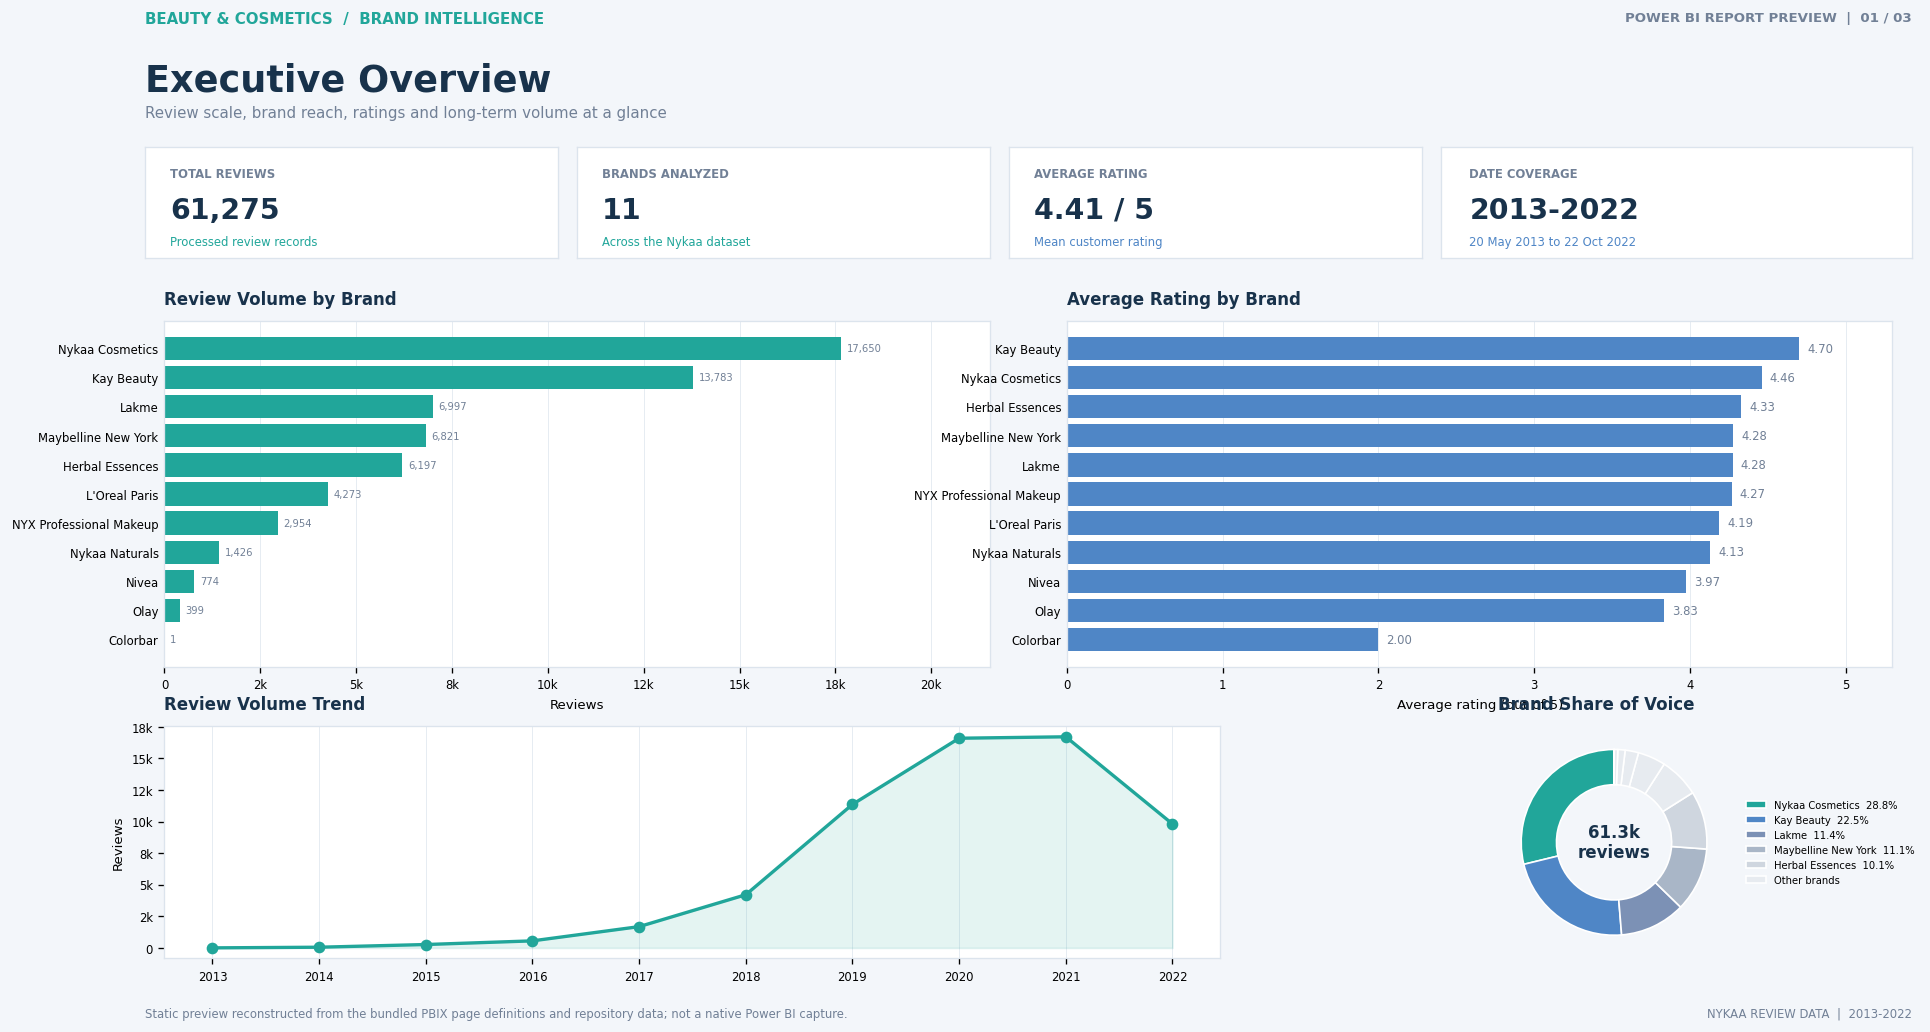

Layout of this report page (visuals, bound fields, positions):
{"tool":"powerbi","page":{"name":"Execitive Overview","canvas":[1280,720],"ordinal":0},"visuals":[{"type":"shape","box":[16,512,608,192],"z":0},{"type":"shape","box":[528,224,480,288],"z":1000},{"type":"shape","box":[16,224,512,288],"z":2000},{"type":"cardVisual","fields":{"Data":["Measures (2).Total Reviews"]},"box":[16,112,160,112],"z":3000},{"type":"cardVisual","title":"Brands Analyzed","fields":{"Data":["Measures (2).Total Brands"]},"box":[368,112,160,112],"z":4000},{"type":"clusteredBarChart","title":"Review Volume by Brand","fields":{"Category":["dim_brand.brand_name"],"Y":["Measures (2).Total Reviews"]},"box":[32,240,480,256],"z":5000},{"type":"lineChart","title":"Review Volume Trend (2013–2022)","fields":{"Category":["dim_date.full_date.Variation.Date Hierarchy.Year","dim_date.full_date.Variation.Date Hierarchy.Quarter","dim_date.full_date.Variation.Date Hierarchy.Month","dim_date.full_date.Variation.Date Hierarchy.Day"],"Y":["Measures (2).Reviews Analyzed"]},"box":[48,528,544,160],"z":6000},{"type":"clusteredBarChart","title":"Average Rating by Brand","fields":{"Category":["dim_brand.brand_name"],"Y":["Measures (2).Average Rating"]},"box":[544,240,448,256],"z":7000},{"type":"cardVisual","fields":{"Data":["Measures (2).Average Rating"]},"box":[192,112,160,112],"z":8000},{"type":"shape","box":[144,0,896,112],"z":9000},{"type":"textbox","box":[176,16,816,80],"z":10000},{"type":"shape","box":[1040,112,240,112],"z":11000},{"type":"shape","box":[1008,336,272,368],"z":12000},{"type":"shape","box":[1040,224,240,112],"z":13000},{"type":"slicer","fields":{"Values":["dim_brand.brand_name"]},"box":[1056,160,192,48],"z":14000},{"type":"slicer","fields":{"Values":["dim_date.year"]},"box":[1056,272,192,48],"z":15000},{"type":"textbox","box":[1024,384,240,304],"z":16000},{"type":"shape","box":[528,112,336,112],"z":17000},{"type":"gauge","fields":{"Y":["Measures (2).Net Sentiment"]},"box":[544,128,304,80],"z":18000},{"type":"shape","box":[624,512,384,192],"z":19000},{"type":"donutChart","title":"Brand Share of Voice","fields":{"Category":["dim_brand.brand_name"],"Y":["Measures (2).Share of Voice %"]},"box":[640,528,352,144],"z":20000},{"type":"image","box":[0,0,160,112],"z":21000},{"type":"shape","box":[1040,0,224,112],"z":22000},{"type":"slicer","fields":{"Values":["fact_customer_feedback.Sentiment Category"]},"box":[1056,48,192,48],"z":23000},{"type":"shape","box":[864,112,160,112],"z":24000}]}

Visuals, with their boxes on the page's 1280x720 design canvas (x1, y1, x2, y2). These are canvas units, not pixel positions in the 1930x1032 screenshot, which may show the page scaled, cropped or inside an application window:
shape: <bbox>16, 512, 624, 704</bbox>
shape: <bbox>528, 224, 1008, 512</bbox>
shape: <bbox>16, 224, 528, 512</bbox>
cardVisual - Measures (2).Total Reviews: <bbox>16, 112, 176, 224</bbox>
"Brands Analyzed" cardVisual: <bbox>368, 112, 528, 224</bbox>
"Review Volume by Brand" clusteredBarChart: <bbox>32, 240, 512, 496</bbox>
"Review Volume Trend (2013–2022)" lineChart: <bbox>48, 528, 592, 688</bbox>
"Average Rating by Brand" clusteredBarChart: <bbox>544, 240, 992, 496</bbox>
cardVisual - Measures (2).Average Rating: <bbox>192, 112, 352, 224</bbox>
shape: <bbox>144, 0, 1040, 112</bbox>
textbox: <bbox>176, 16, 992, 96</bbox>
shape: <bbox>1040, 112, 1280, 224</bbox>
shape: <bbox>1008, 336, 1280, 704</bbox>
shape: <bbox>1040, 224, 1280, 336</bbox>
slicer - dim_brand.brand_name: <bbox>1056, 160, 1248, 208</bbox>
slicer - dim_date.year: <bbox>1056, 272, 1248, 320</bbox>
textbox: <bbox>1024, 384, 1264, 688</bbox>
shape: <bbox>528, 112, 864, 224</bbox>
gauge - Measures (2).Net Sentiment: <bbox>544, 128, 848, 208</bbox>
shape: <bbox>624, 512, 1008, 704</bbox>
"Brand Share of Voice" donutChart: <bbox>640, 528, 992, 672</bbox>
image: <bbox>0, 0, 160, 112</bbox>
shape: <bbox>1040, 0, 1264, 112</bbox>
slicer - fact_customer_feedback.Sentiment Category: <bbox>1056, 48, 1248, 96</bbox>
shape: <bbox>864, 112, 1024, 224</bbox>
